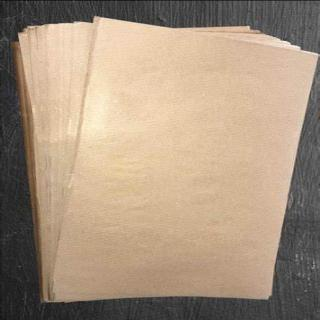Anorganik: (51, 17, 317, 297)
